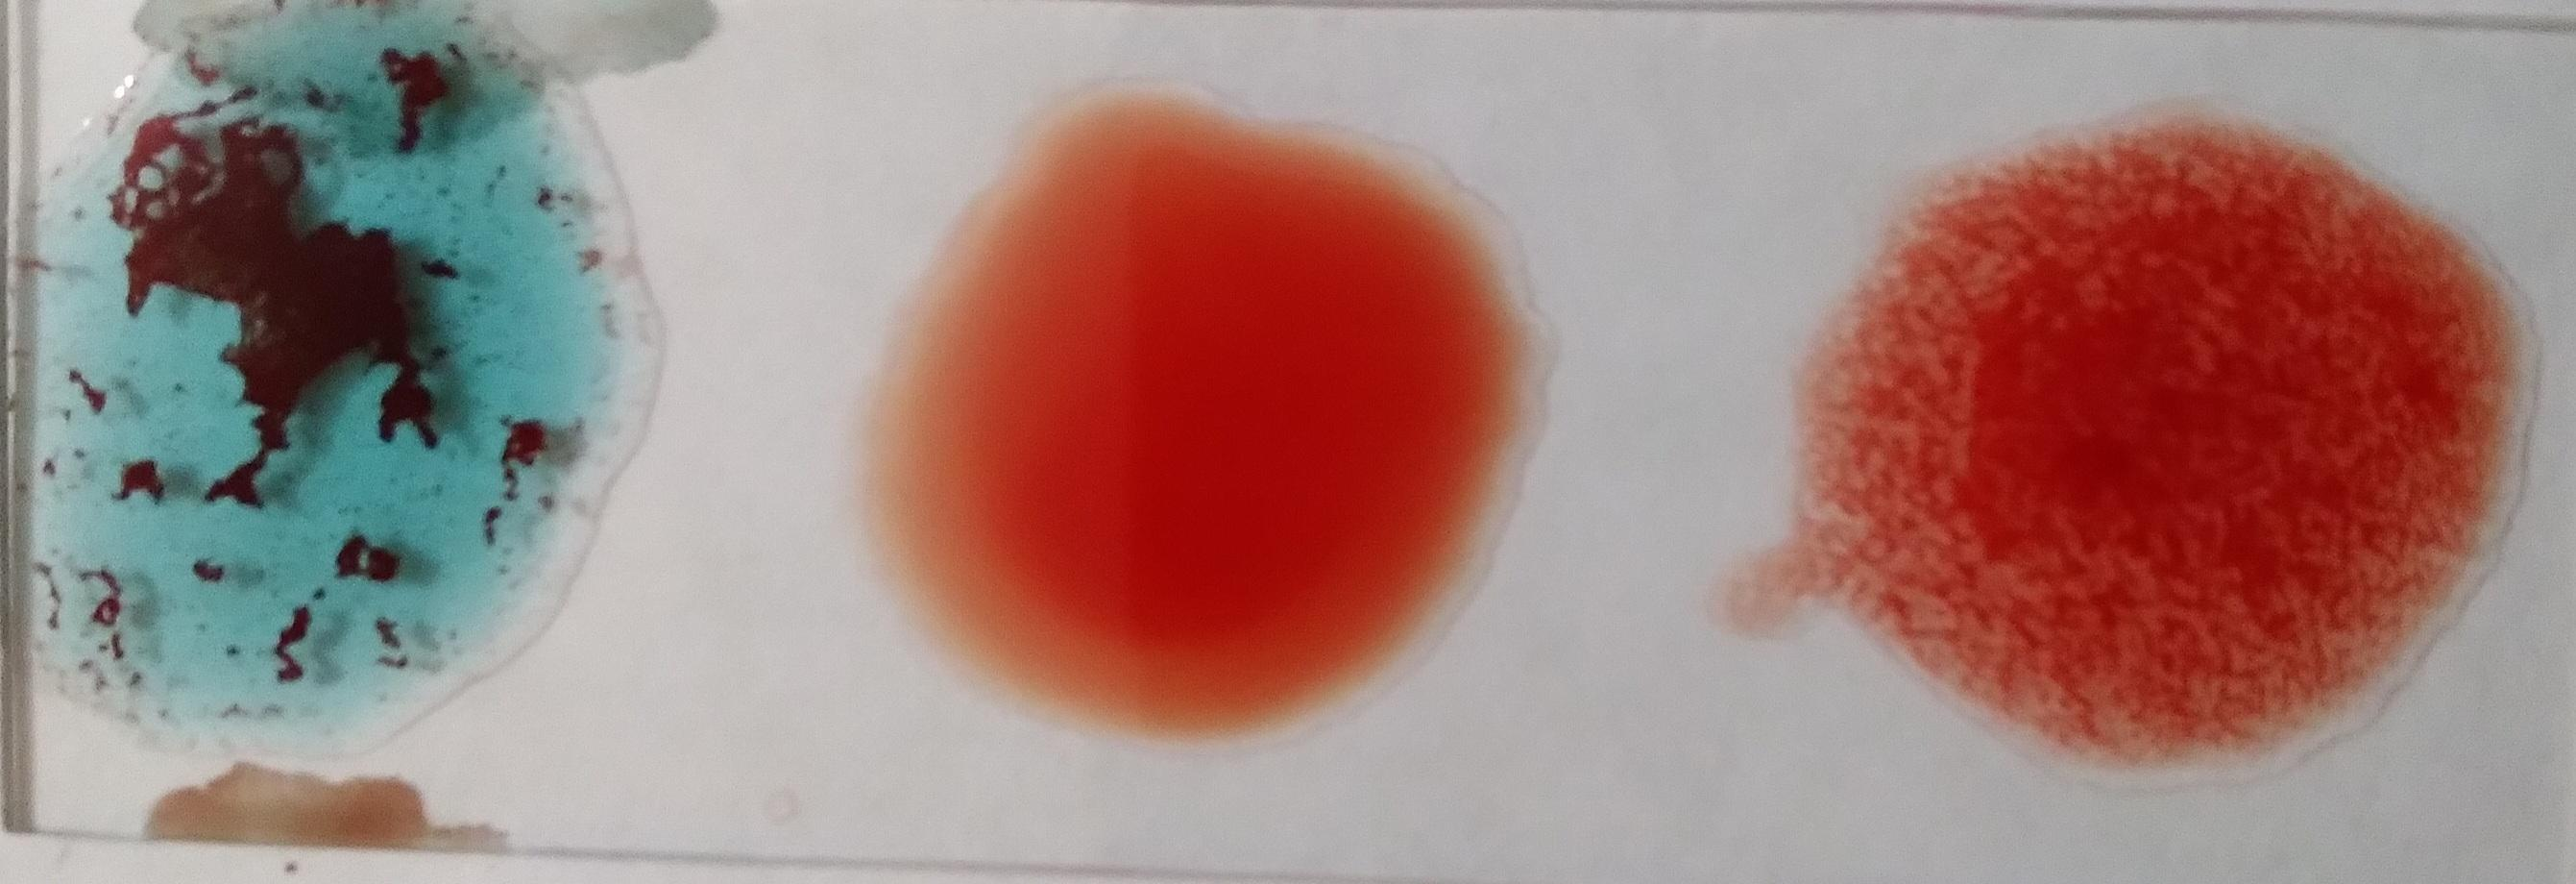A: (26, 49, 639, 725)
D: (1794, 145, 2510, 784)
